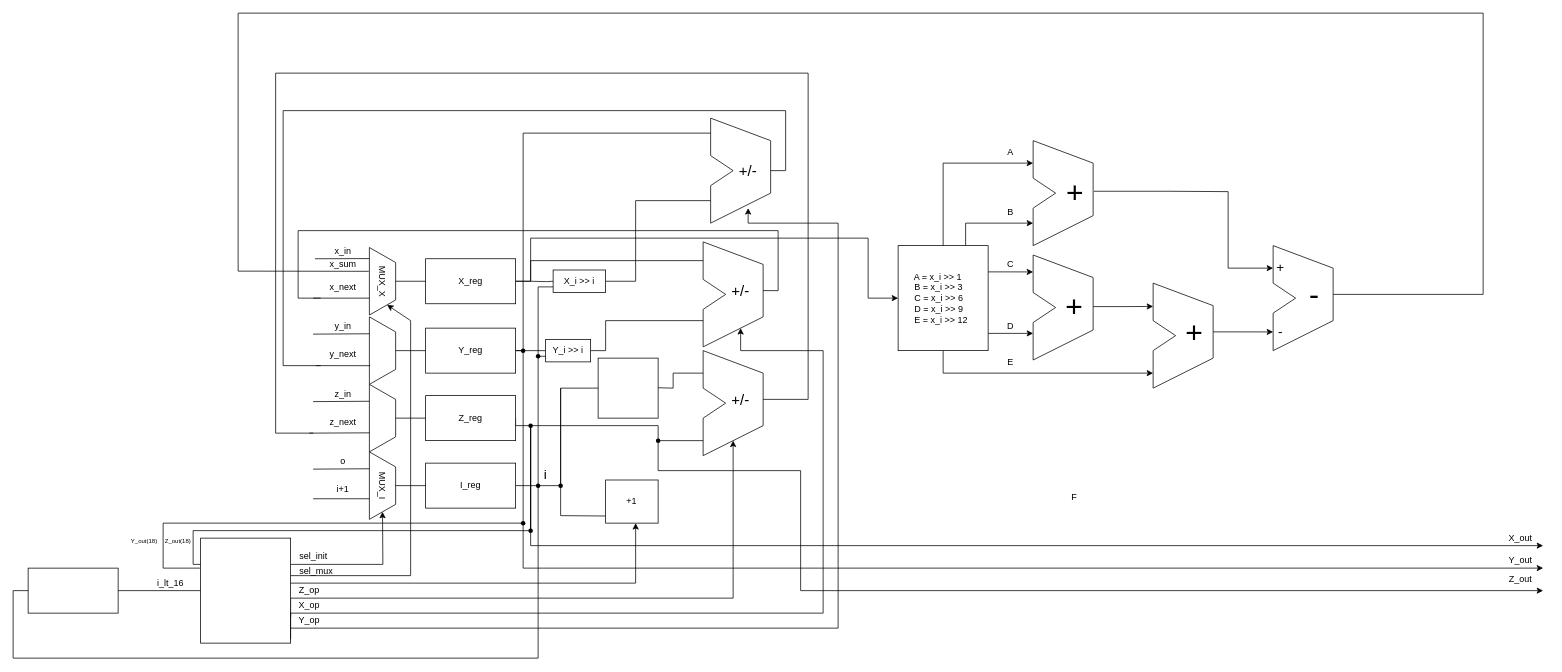
Some shapes in this 1562 by 672 pixel diagram are drawn without their labels. Each missing label, with the centre of its shape:
"Comp_i i < 16" belongs at [72,590].
"Controle FSM" belongs at [245,590].
"LUT de Ângulos (ROM)" belongs at [627,387].
"MUX_Y" belongs at [382,350].
"MUX_Z" belongs at [382,418].
